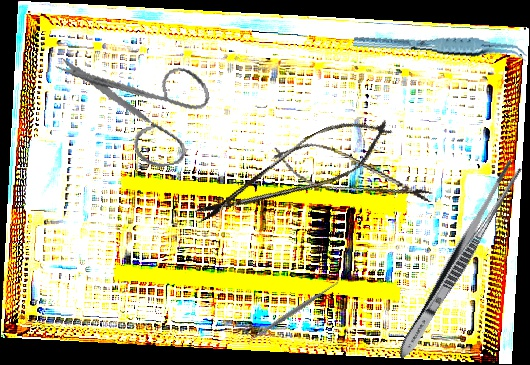Dressing Forceps: (392, 156, 525, 364)
Iris Scissors: (51, 29, 222, 185)
Micro Scissor: (185, 101, 403, 243), (266, 133, 439, 216)
Spatula Surgical: (243, 275, 345, 347)
Tissue Forceps: (352, 16, 529, 78)
